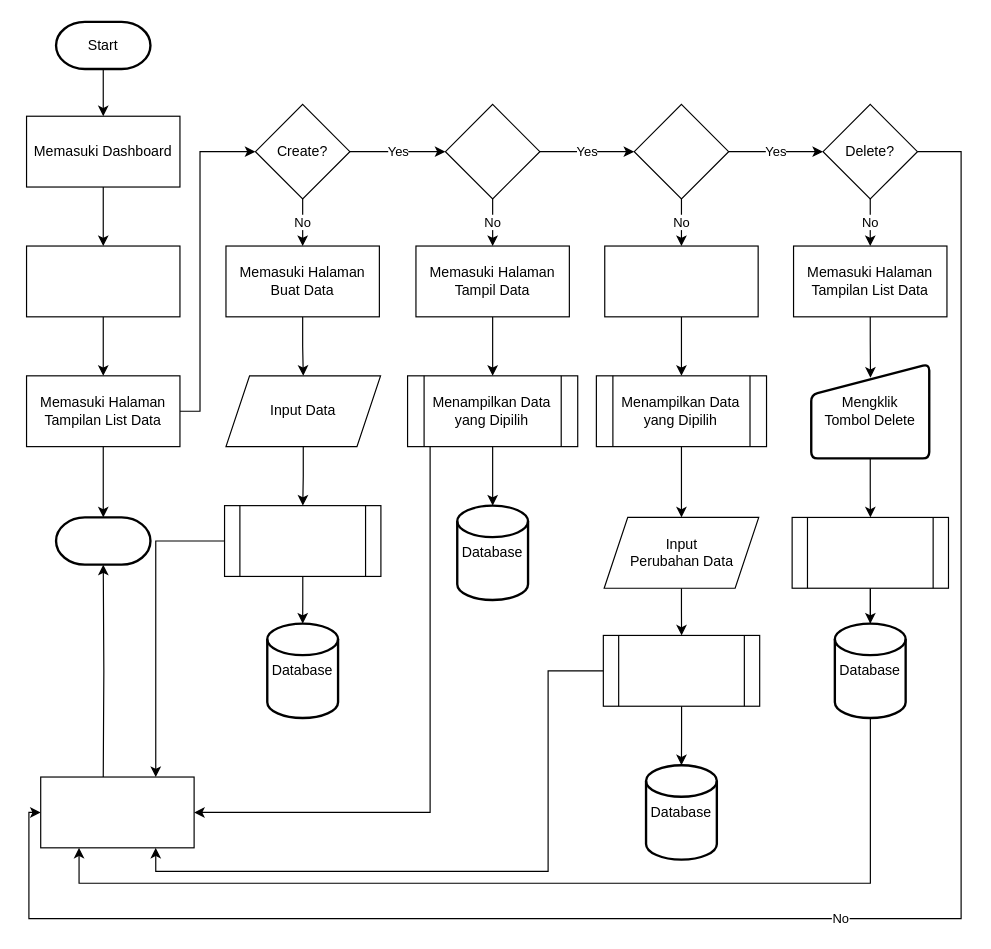
This 991x949 diagram has some shape labels left out. The centre of each missing label's shape, as x and y in pixels:
"End" goes at (102,540).
"Memasuki Halaman Edit Data" goes at (681,281).
"Memasuki Halaman Tampilan Data" goes at (117,812).
"Memproses Pembuatan Data" goes at (302,540).
"Memproses Penghapusan Data" goes at (869,552).
"Memproses Perubahan Data" goes at (681,670).
"Mengolah Data" goes at (102,281).
"Show?" goes at (492,151).
"Update" goes at (681,151).
